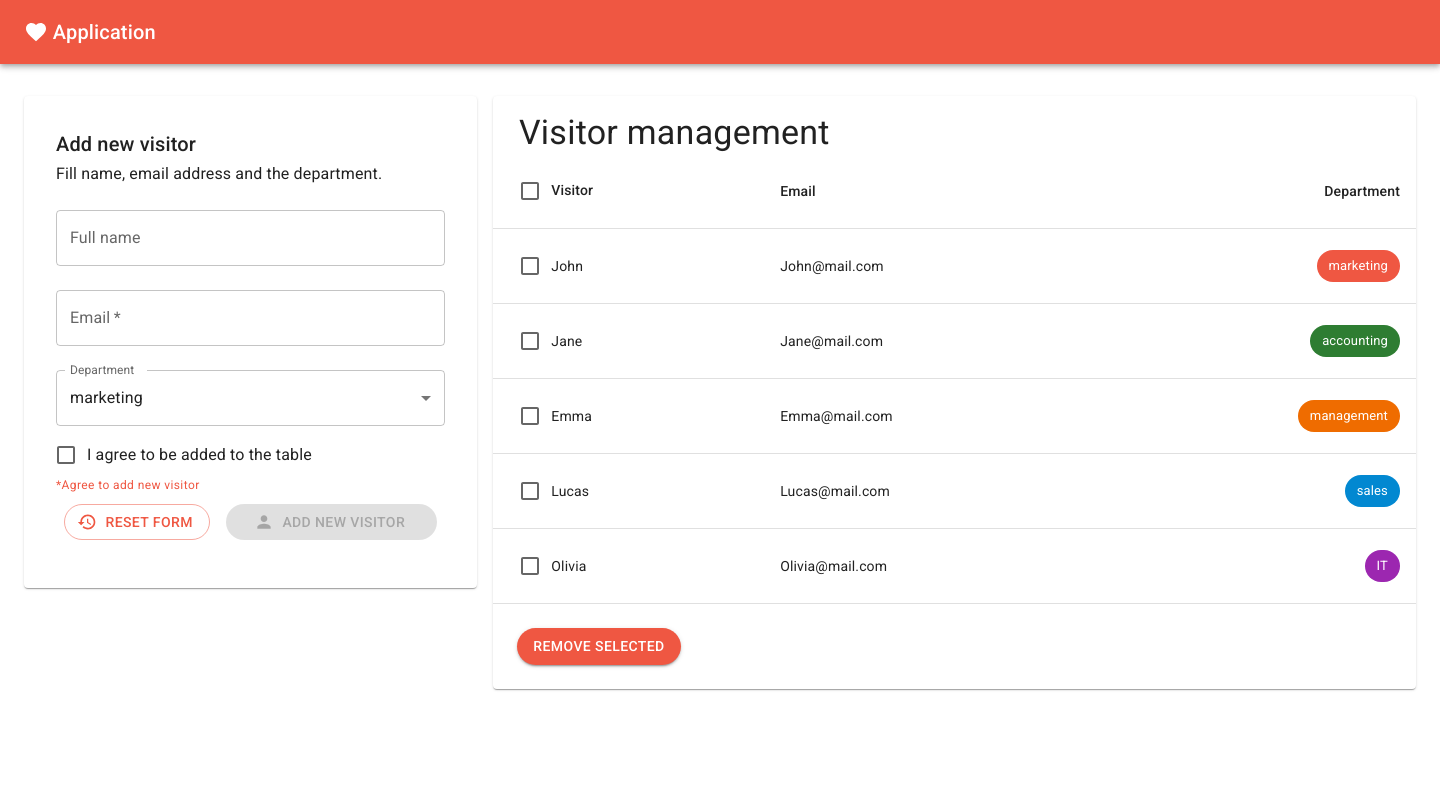
Given form is filled correctly › when pressing ADD NEW VISITOR button, it should add new Visitor to the table and reset form
Type "John Doe" into the field named "visitor".
click(251, 238); type("John Doe")  # box top-left (56, 210), bottom-right (445, 266)
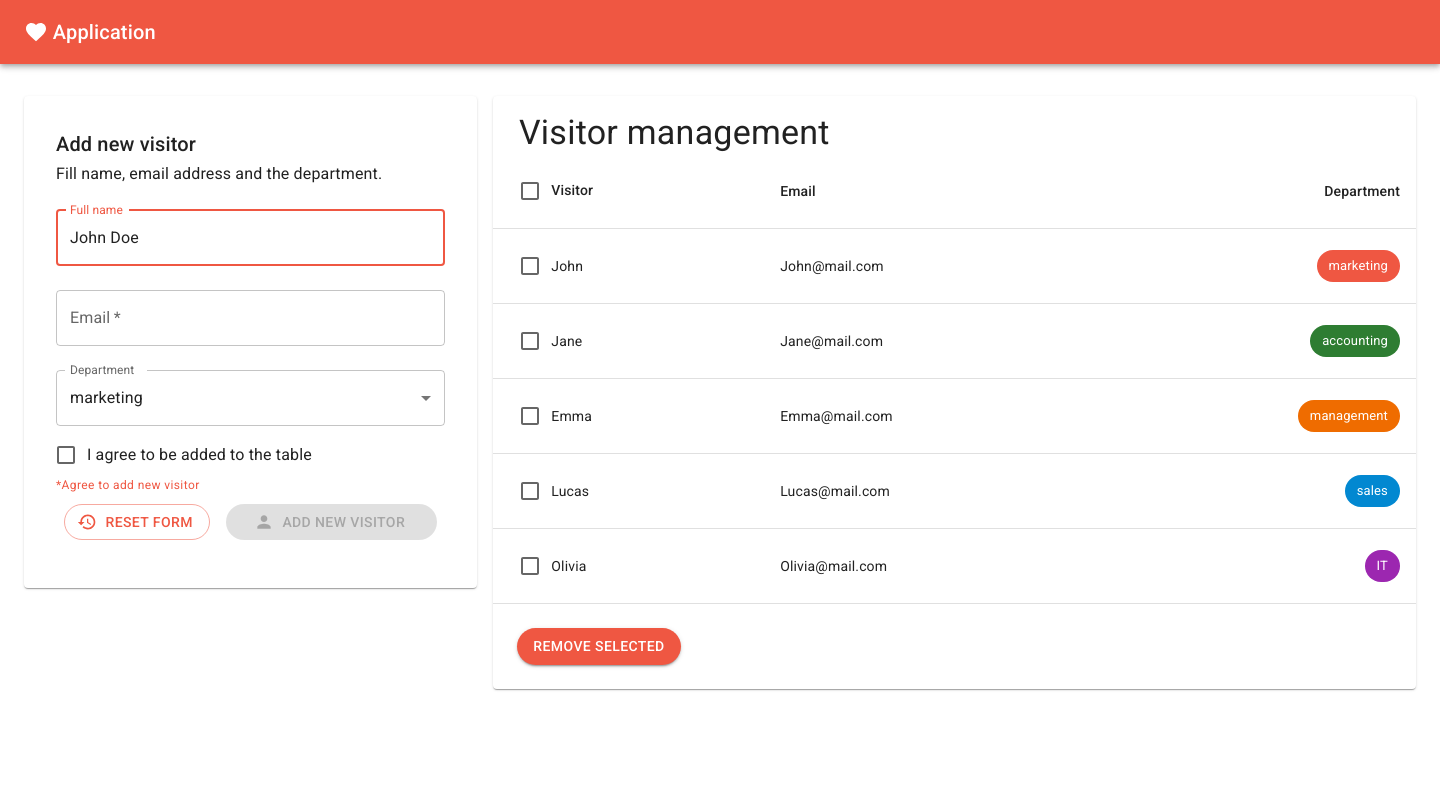
Type "john.doe@example.com" into the field named "email".
click(251, 318); type("john.doe@example.com")  # box top-left (56, 290), bottom-right (445, 346)
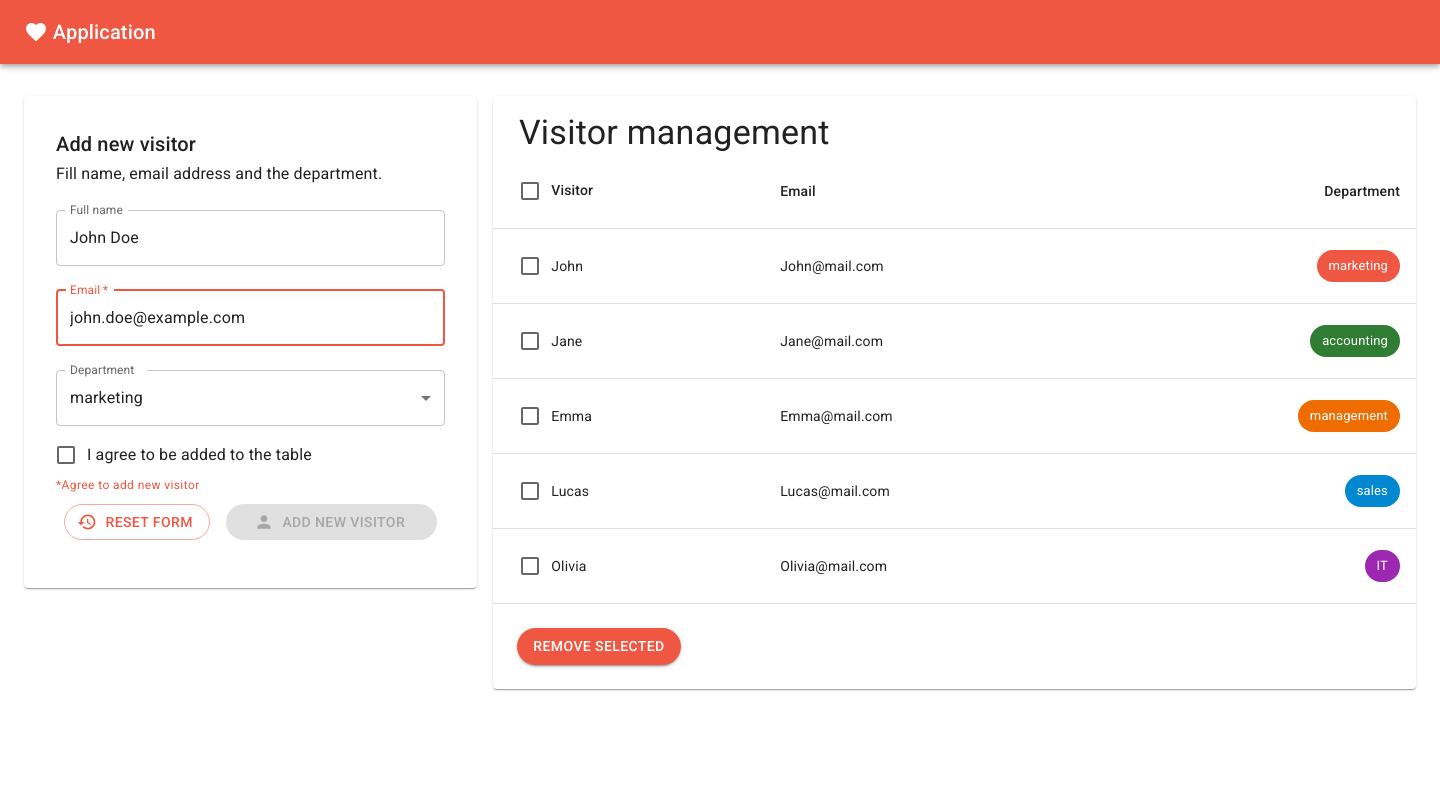
Check the checkbox named "isAgreementChecked".
click(66, 455)  # box top-left (45, 434), bottom-right (87, 476)
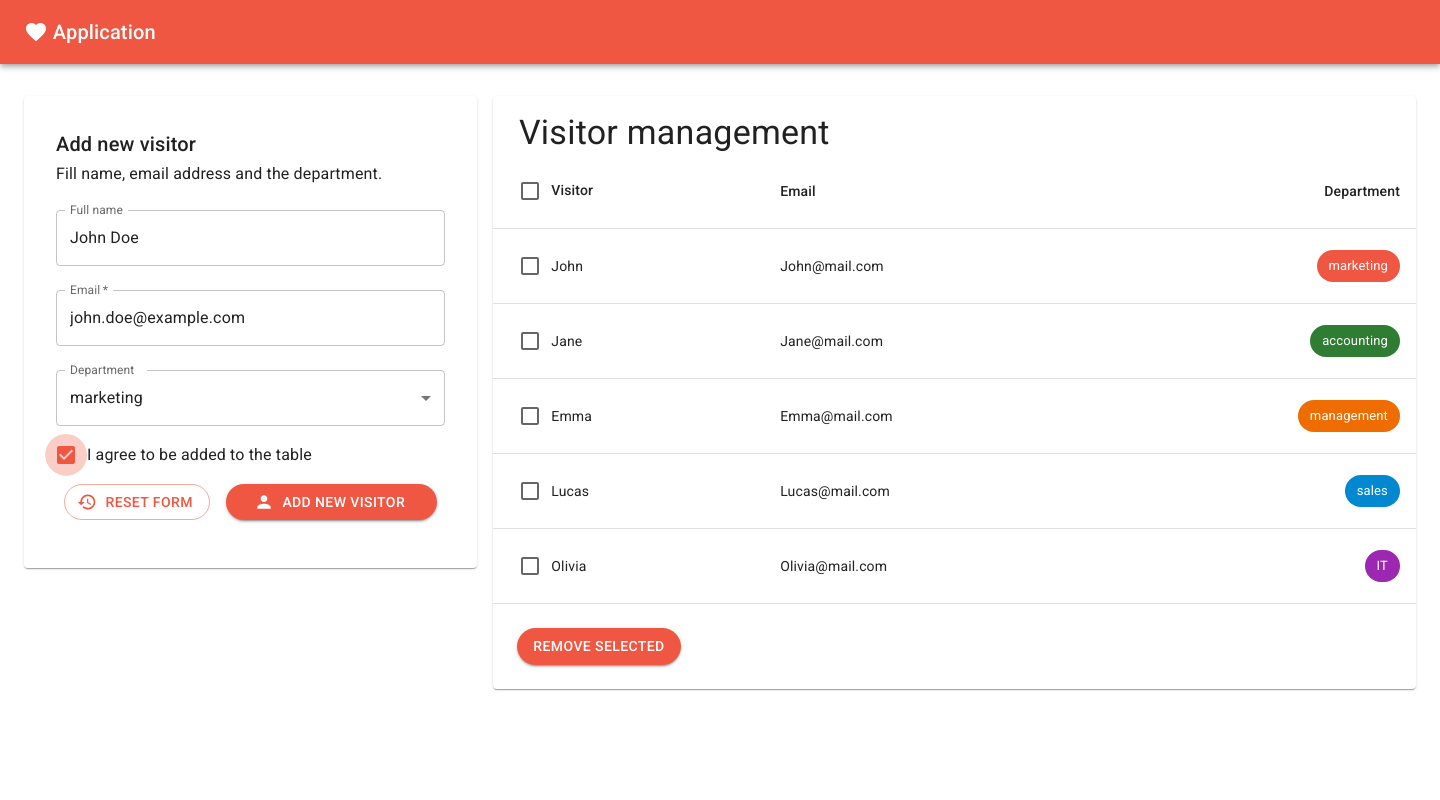
Click the dropdown with id "department-select".
click(107, 398)  # box top-left (70, 388), bottom-right (143, 407)
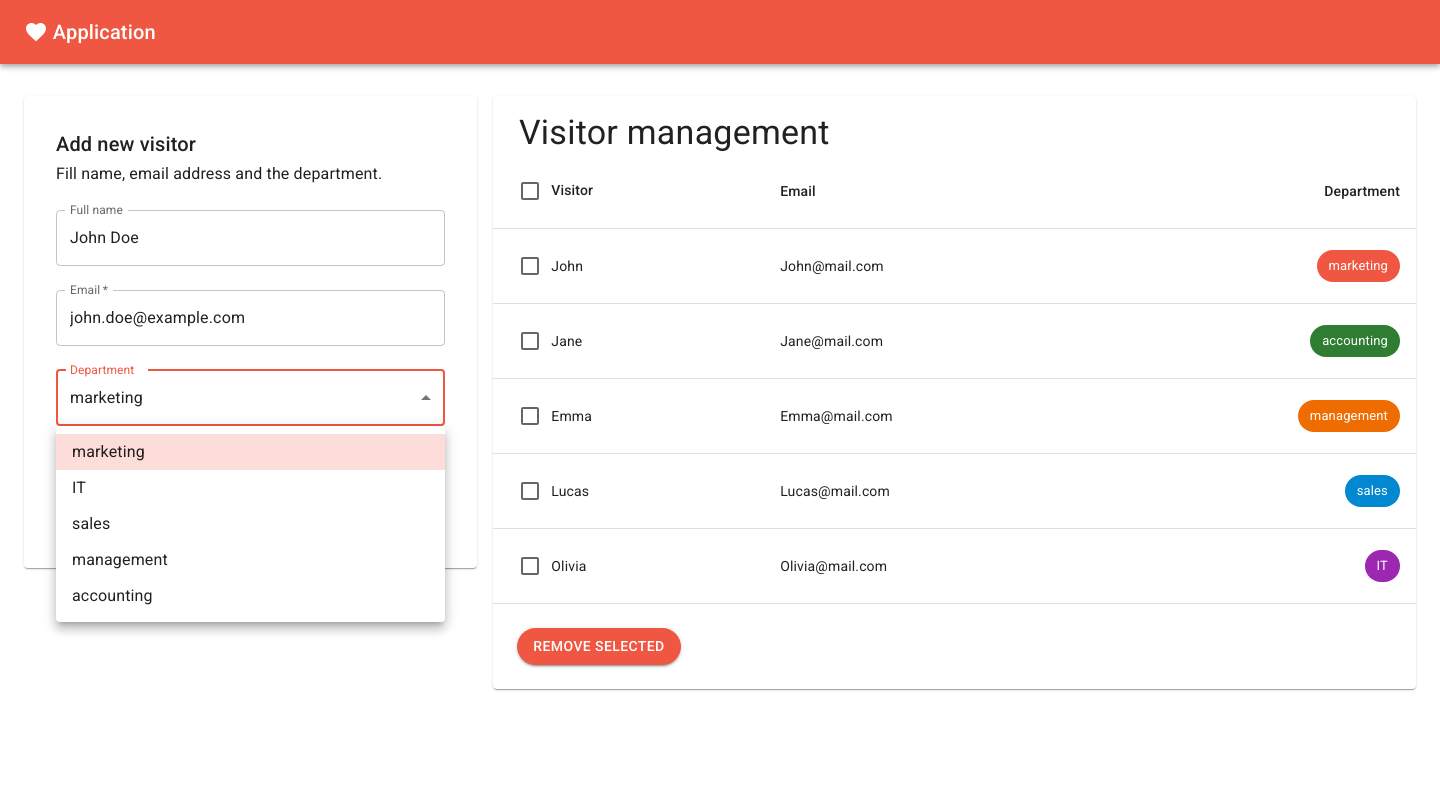
Click the option "marketing".
click(108, 452)  # box top-left (56, 434), bottom-right (445, 470)
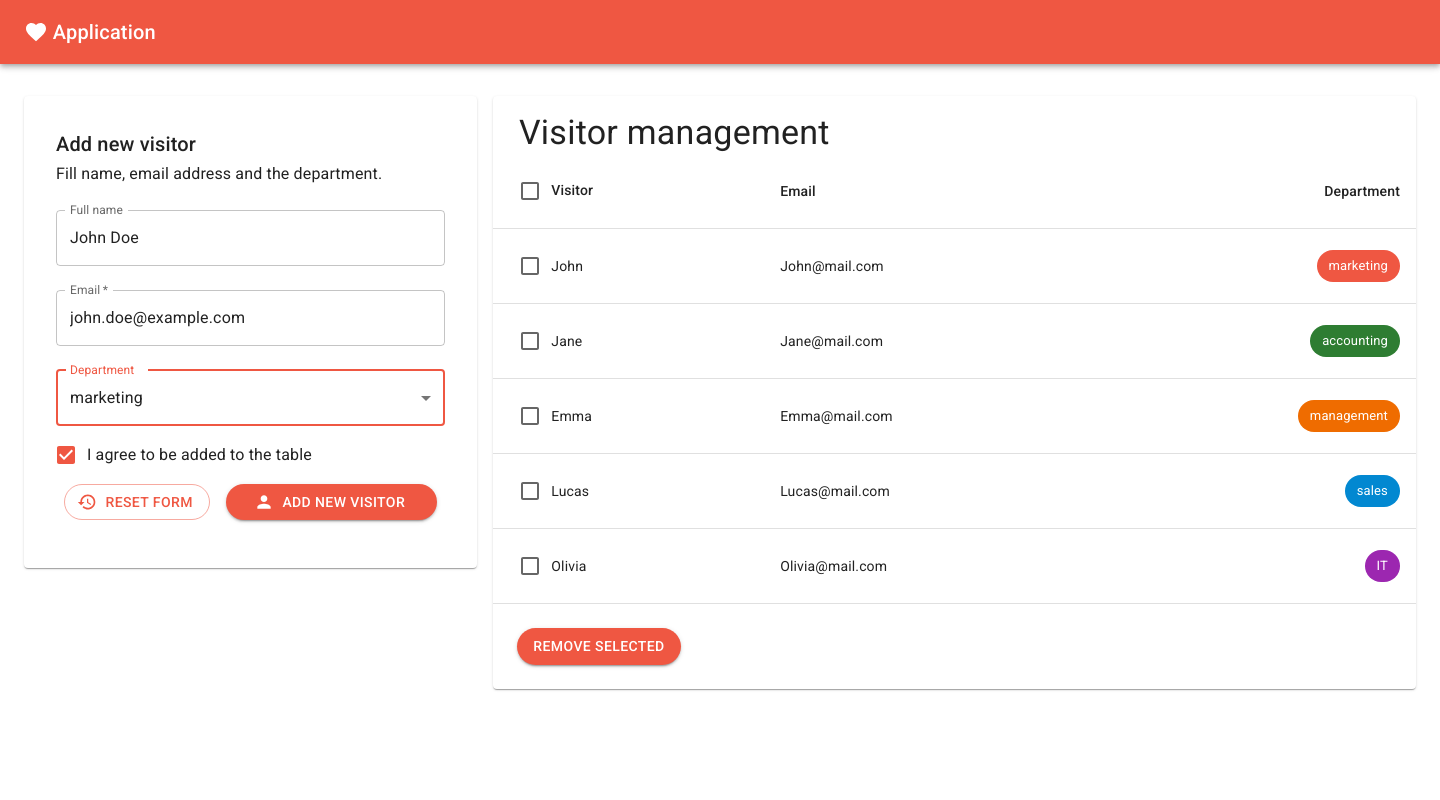
Click the button with test id "add-visitor-button".
click(332, 503)  # box top-left (226, 484), bottom-right (437, 521)
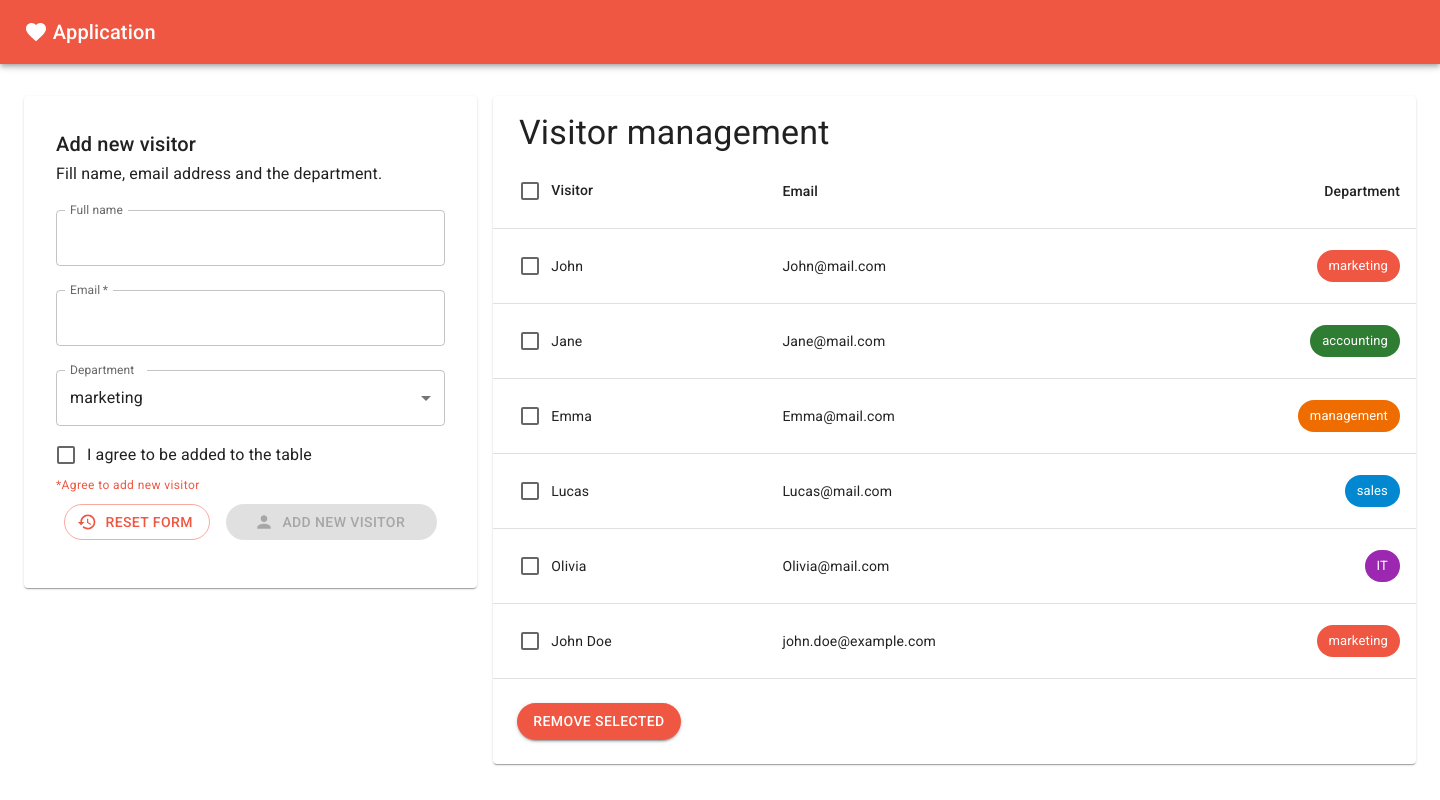
Now the text "john.doe@example.com" is shown, box top-left (766, 604), bottom-right (1143, 679)
Now the text "*Agree to add new visitor" is shown, box top-left (56, 478), bottom-right (200, 492)
Now the button with test id "add-visitor-button" is disabled, box top-left (226, 504), bottom-right (437, 541)
